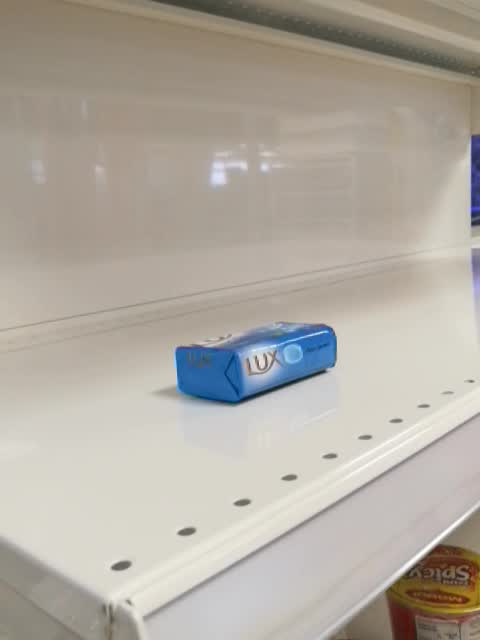soap: (175, 320, 338, 404)
